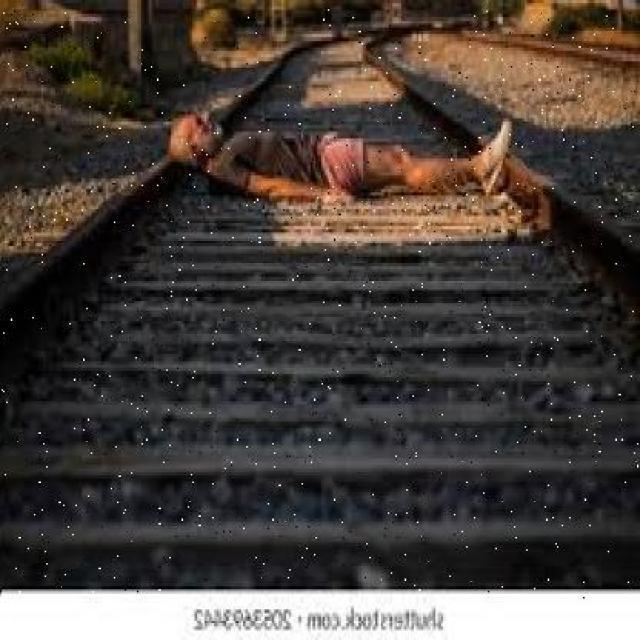danger: (154, 108, 516, 198)
rail: (2, 10, 640, 598)
